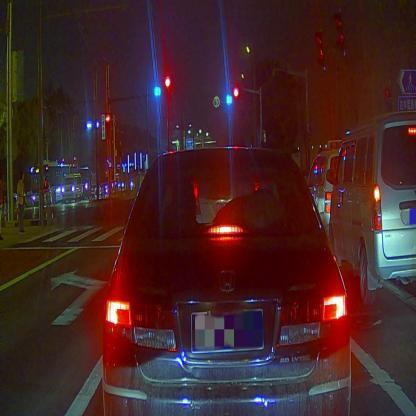Red Light: (105, 110, 111, 140), (165, 75, 171, 102)
